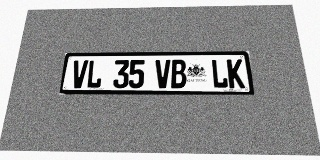3: (113, 60, 129, 88)
5: (129, 60, 145, 88)
B: (171, 59, 187, 88)
K: (227, 59, 245, 88)
L: (211, 59, 229, 88), (86, 60, 103, 88)
V: (70, 60, 88, 88), (155, 60, 171, 88)
